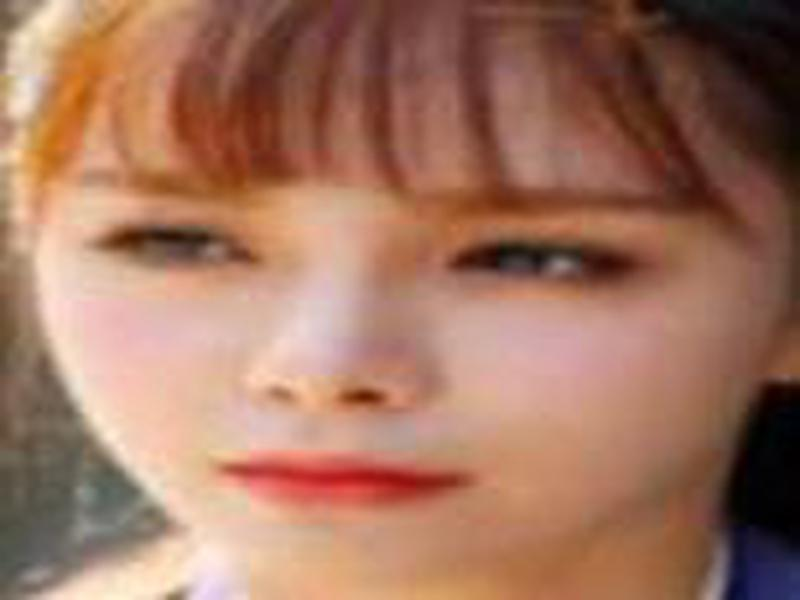without_mask: (29, 118, 761, 578)
